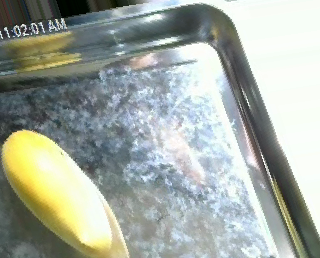Mango: (0, 129, 112, 255)
